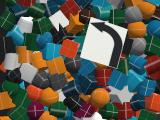Left: (80, 17, 128, 69)
